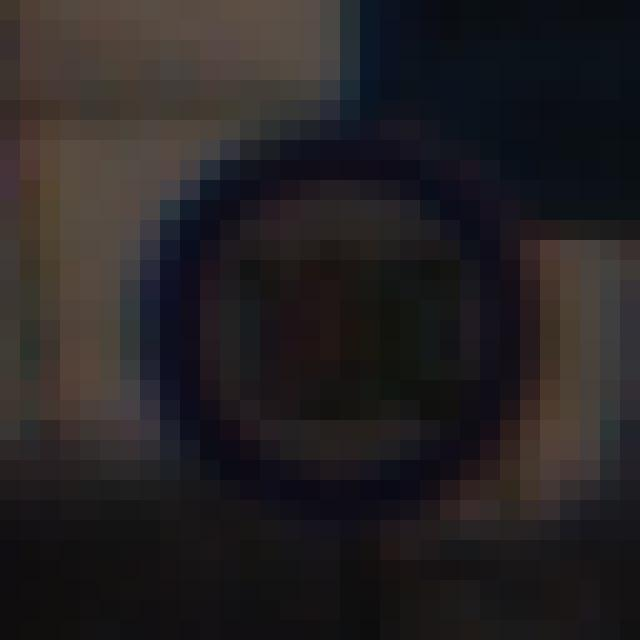SPEED LIMIT 100: (138, 143, 518, 499)
